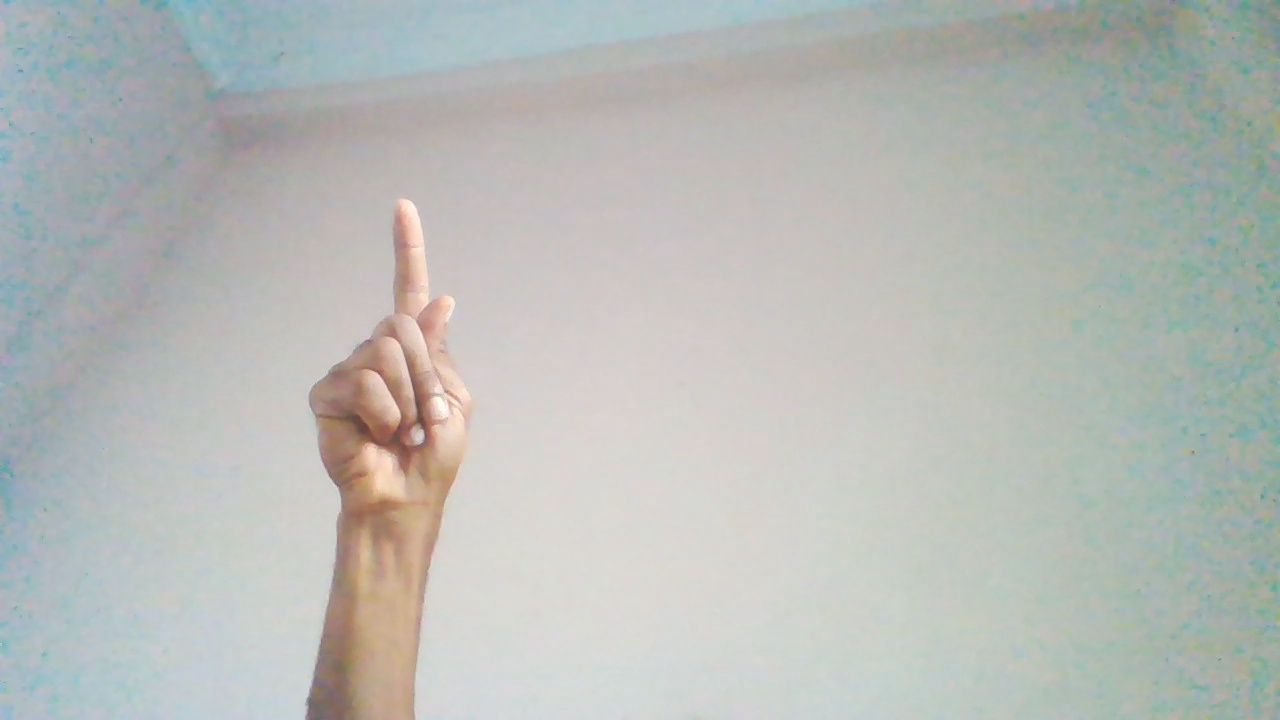ne: (308, 197, 483, 612)
